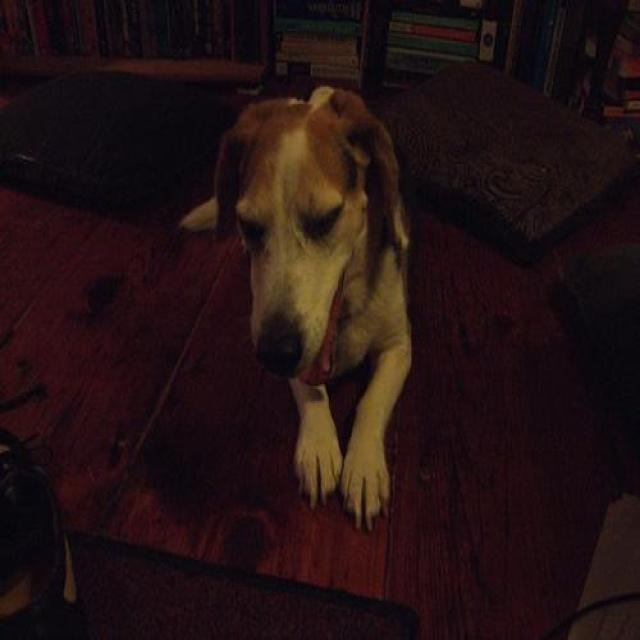Dog: (206, 85, 522, 524)
